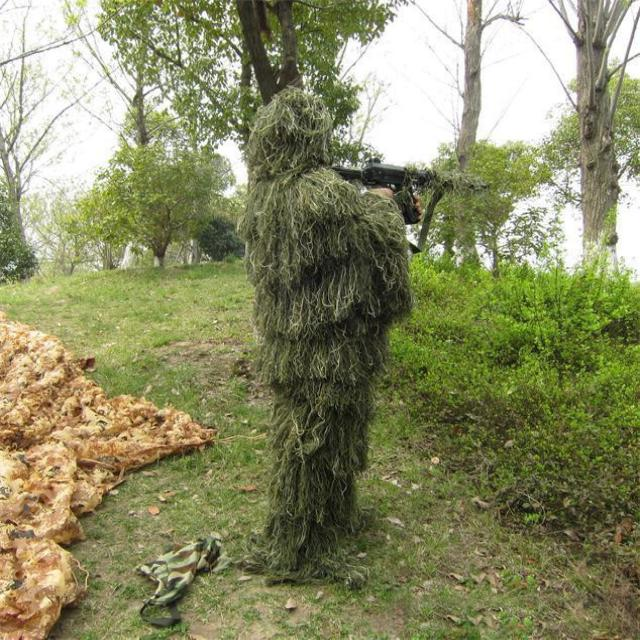Camouflage: (238, 84, 490, 593)
